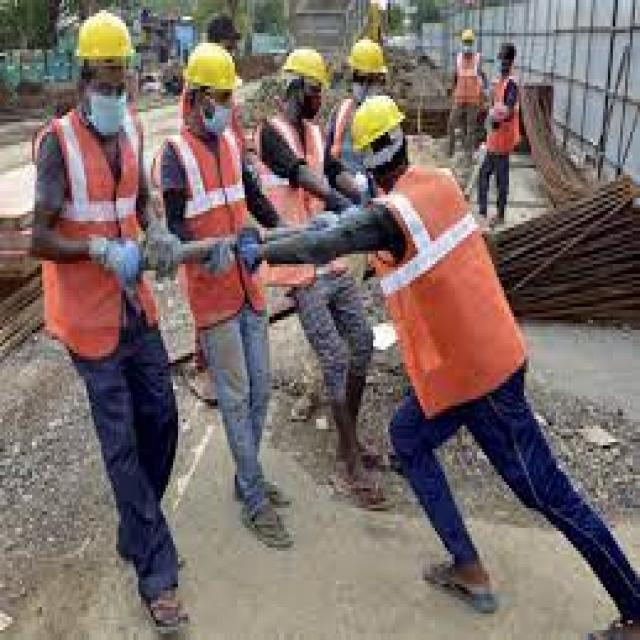Reflective-Jacket: (368, 165, 531, 416), (27, 102, 151, 366), (153, 119, 260, 300), (257, 106, 336, 287), (479, 72, 524, 162), (450, 49, 482, 109)
Safety-Helmet: (67, 3, 146, 79), (344, 89, 415, 165), (176, 33, 247, 106), (276, 36, 334, 99), (343, 33, 398, 89), (458, 23, 480, 50)
